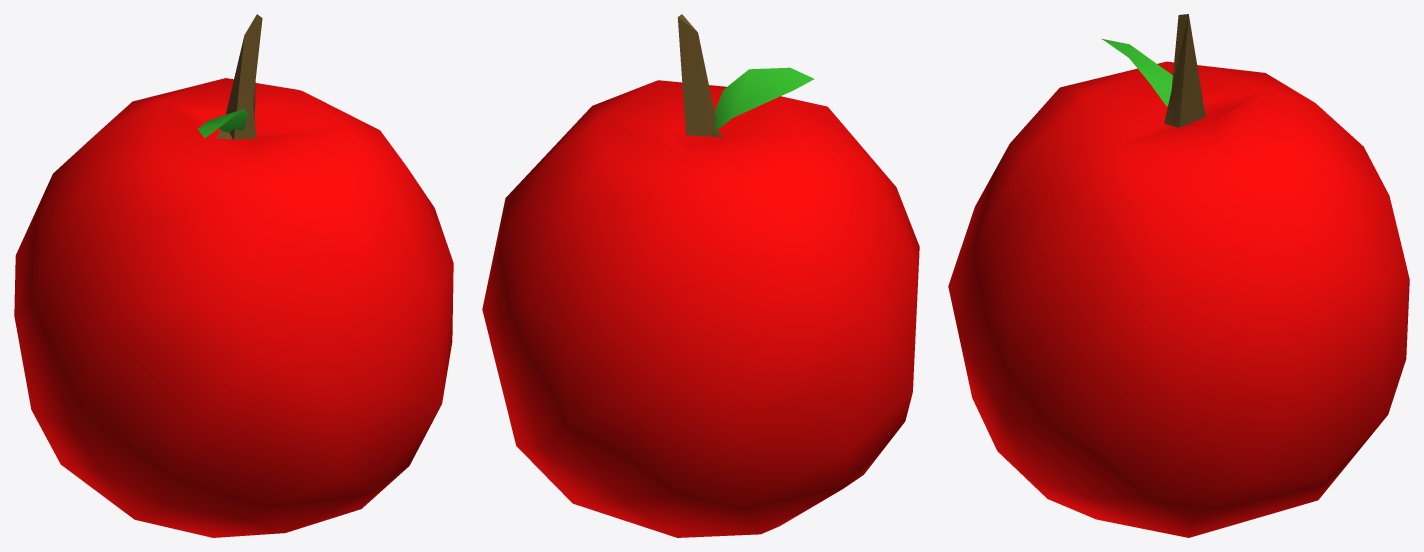
Rendered from Prefab_Scatter_Apple.glb.
3 views of the same model, side by side, from view 1: azimuth 30°, elevation 25°; view 2: azimuth 150°, elevation 25°; view 3: azimuth 270°, elevation 25° (orthographic). The views are drawn at different scales.
Parts seen in each view (by area): view 1: Sphere.007; view 2: Sphere.007; view 3: Sphere.007.
Part boxes in pixels (x1,y1,x2,y2): Sphere.007: (14, 14, 453, 537); Sphere.007: (482, 14, 919, 537); Sphere.007: (948, 14, 1409, 537).
Bounding box in the file's own units: 0.0942 × 0.1113 × 0.0951.
1 material, 1 textured.
